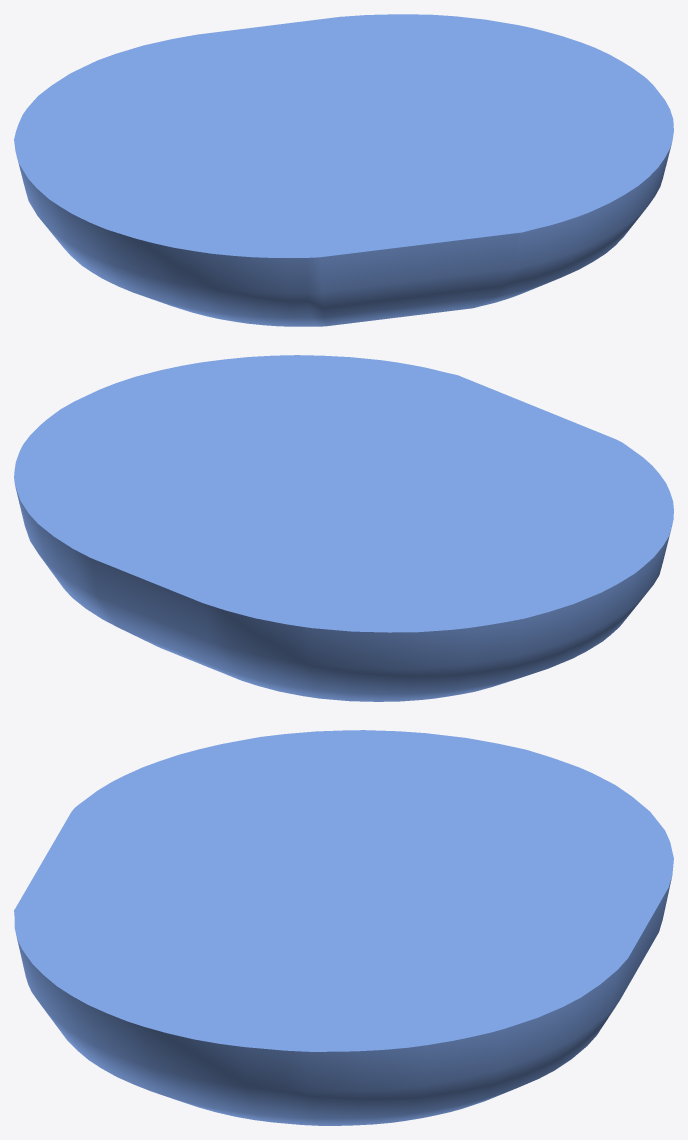
Rendered from bluelake.fbx.
3 renders of one model, top to bottom at view 1: azimuth 30°, elevation 25°; view 2: azimuth 150°, elevation 25°; view 3: azimuth 270°, elevation 25°, orthographic. The views are drawn at different scales.
Parts seen in each view (by area): view 1: bdp_04; view 2: bdp_04; view 3: bdp_04.
Part boxes in pixels (x1,y1,x2,y2): bdp_04: (14, 14, 673, 326); bdp_04: (14, 355, 673, 701); bdp_04: (14, 730, 673, 1125).
Size of the model in its own units: 1.64 by 0.3234 by 1.42.
